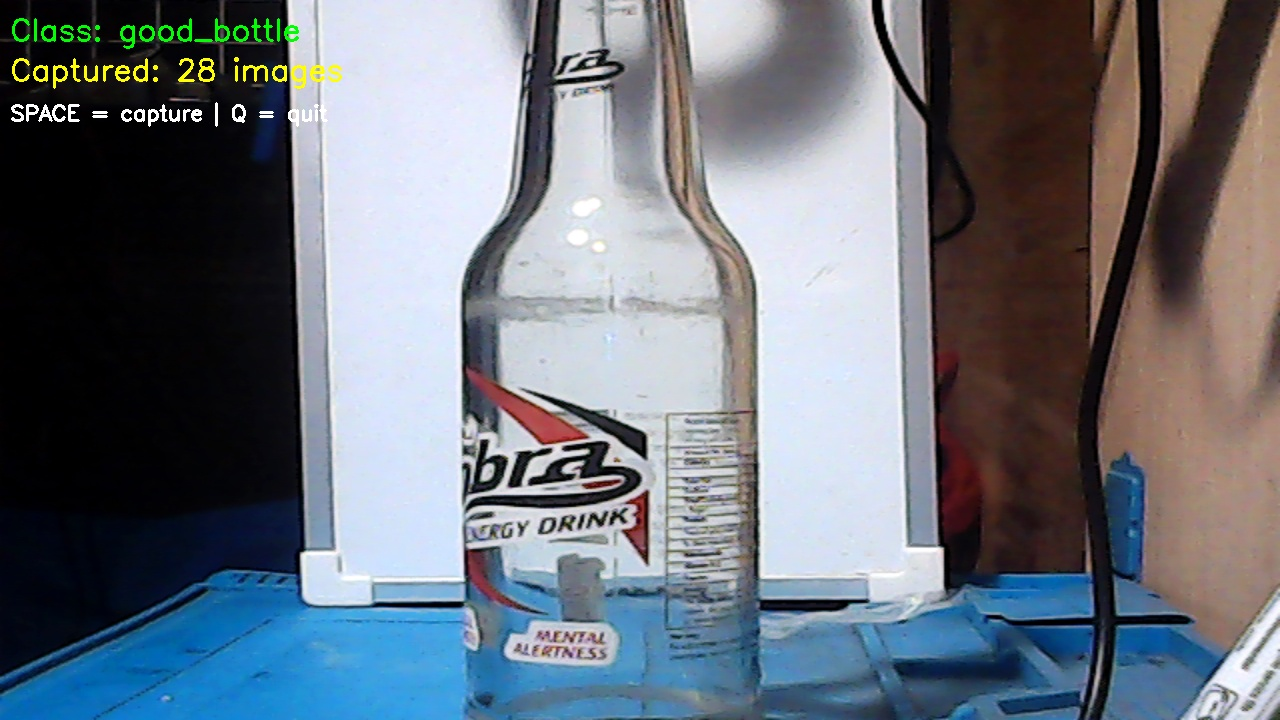good_bottle: (446, 2, 773, 701)
